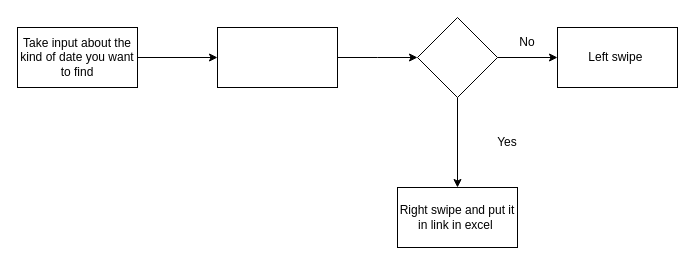
This 695x265 diagram has some shape labels left out. Each missing label, with the box of its shape:
Auto filter according to the criteria given in the input: (216, 26, 338, 88)
if contion fullfill: (416, 16, 498, 98)
